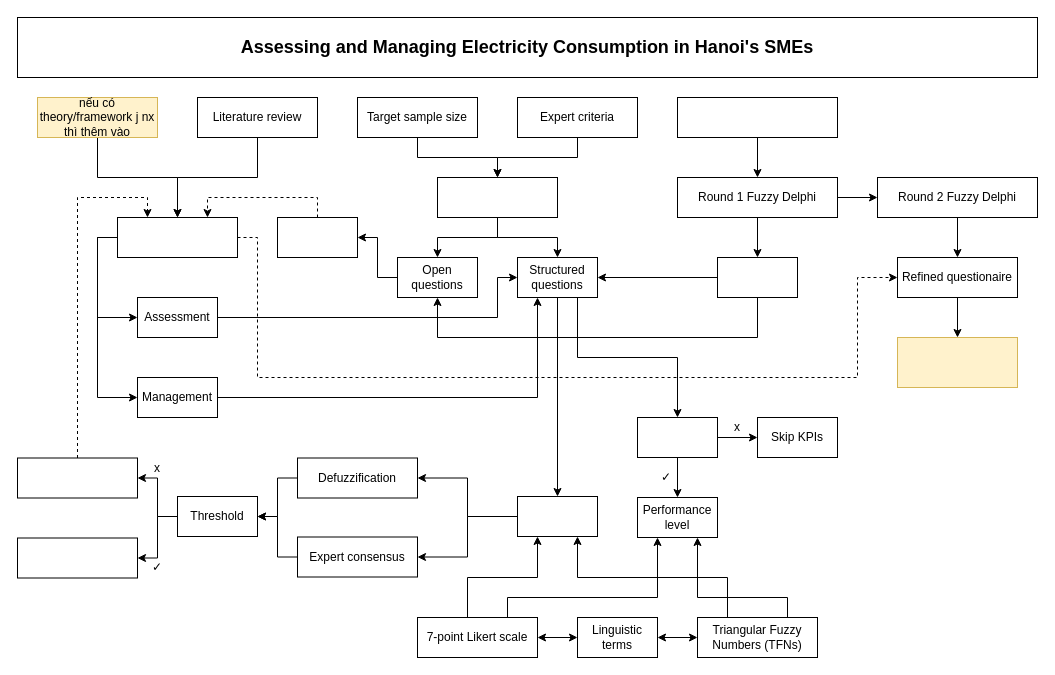
Some shapes in this 1055 by 675 pixel diagram are drawn without their labels. The centre of each missing label's shape, as x and y in pixels:
chưa xem doc round 2 nên chưa bt cm định lm j: the point at 957,362
Empirical KPIs: the point at 177,237
Execution: the point at 677,437
Expert panel: the point at 497,197
KPIs Elimination: the point at 77,477
KPIs Retention: the point at 77,557
KPIs Validity: the point at 557,516
Multi-round Fuzzy Delphi: the point at 757,117
New KPIs: the point at 317,237
Questionaire: the point at 757,277
